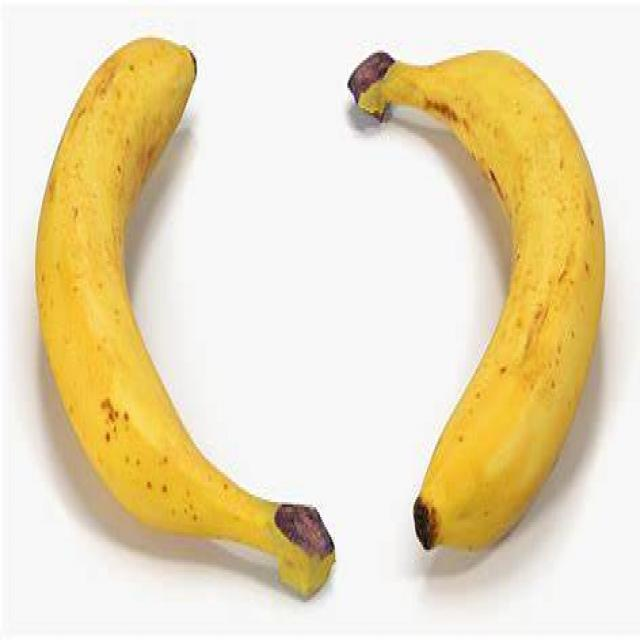Banana: (33, 35, 337, 597), (358, 46, 608, 571)
